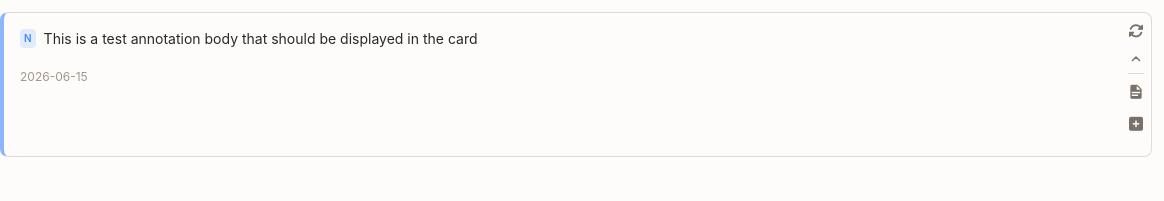
Test case: CardboxCard › pressing Escape cancels note editing without committing
The width and height of the screenshot is (1164, 201).
# Enter note editing mode by clicking "Add note"
Click the button with test id "card-note-add".
click(1136, 124)  # box [1123, 108, 1149, 140]
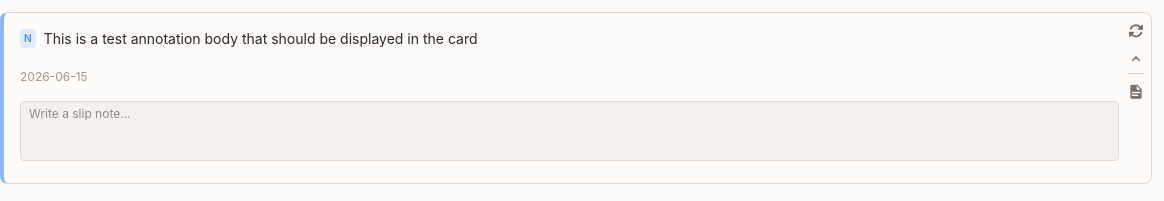
# Type something into the textarea
Type "discard this" into the text box with test id "card-note-textarea".
click(570, 131); type("discard this")  # box [20, 101, 1119, 161]
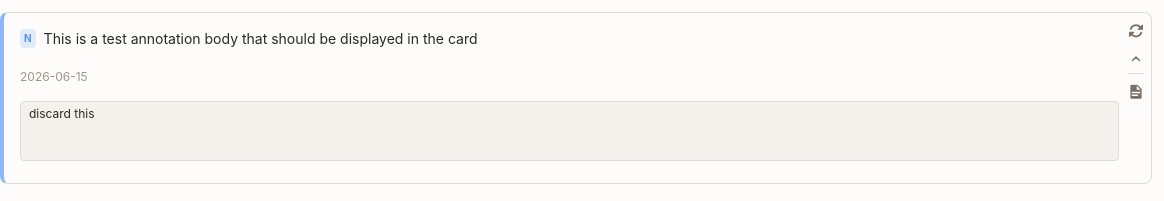
# Press Escape to cancel
Press Escape in the text box with test id "card-note-textarea", box [20, 101, 1119, 161]
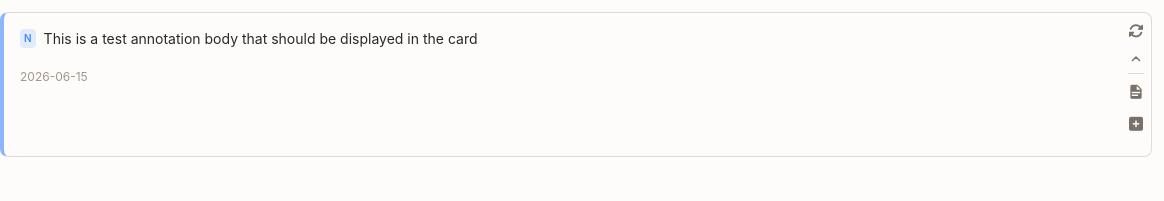
Result: the text box with test id "card-note-textarea" is gone
Result: the button with test id "card-note-add" is shown at [1123, 108, 1149, 140]
